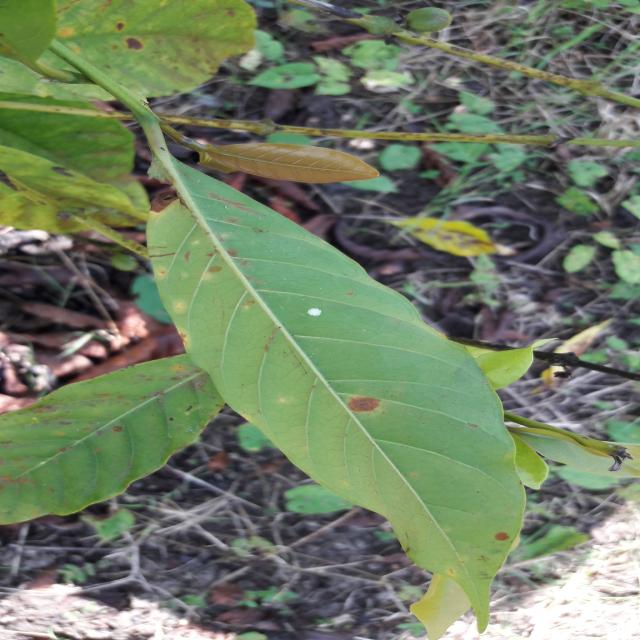Plaga-AranaRoja: (104, 102, 527, 632)
